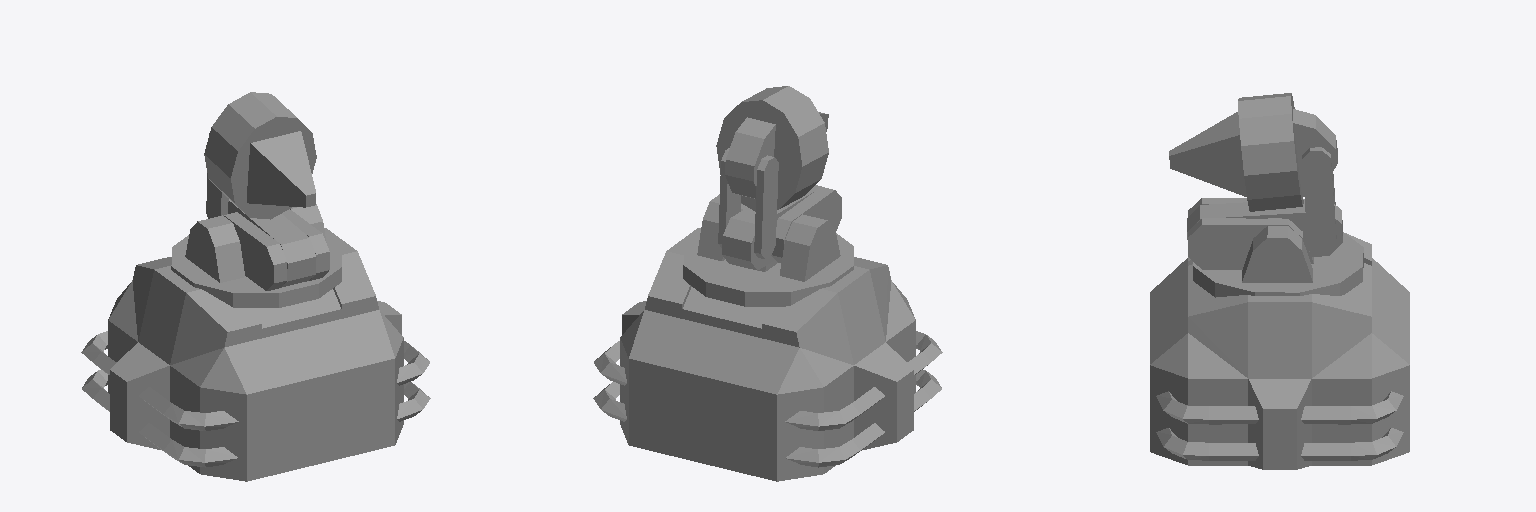
Rendered from amph.obj.
The picture shows the model from 3 angles: view 1: azimuth 30°, elevation 25°; view 2: azimuth 150°, elevation 25°; view 3: azimuth 270°, elevation 25°; orthographic projection.
Parts seen in each view (by area): view 1: body, turret_turret.001, cylinder, nozzle, arm_1, arm_2, arm_3; view 2: body, turret_turret.001, cylinder, arm_3, nanobase, arm_2, arm_1; view 3: body, turret_turret.001, cylinder, arm_1, nozzle, arm_3, arm_2, nanobase.
Boxes of the visible parts, x1=… form: body: x1=81, y1=228, x2=430, y2=481; turret_turret.001: x1=171, y1=204, x2=341, y2=307; cylinder: x1=204, y1=92, x2=316, y2=219; nozzle: x1=247, y1=131, x2=315, y2=207; arm_1: x1=224, y1=209, x2=329, y2=290; arm_2: x1=228, y1=199, x2=316, y2=287; arm_3: x1=206, y1=133, x2=228, y2=218; body: x1=593, y1=228, x2=942, y2=481; turret_turret.001: x1=683, y1=194, x2=853, y2=306; cylinder: x1=716, y1=86, x2=828, y2=211; arm_3: x1=718, y1=148, x2=778, y2=258; nanobase: x1=725, y1=117, x2=775, y2=198; arm_2: x1=722, y1=185, x2=821, y2=270; arm_1: x1=741, y1=187, x2=841, y2=262; body: x1=1150, y1=233, x2=1409, y2=469; turret_turret.001: x1=1193, y1=218, x2=1363, y2=297; cylinder: x1=1238, y1=93, x2=1303, y2=211; arm_1: x1=1188, y1=198, x2=1302, y2=269; nozzle: x1=1169, y1=112, x2=1246, y2=196; arm_3: x1=1302, y1=147, x2=1336, y2=247; arm_2: x1=1187, y1=199, x2=1342, y2=256; nanobase: x1=1293, y1=109, x2=1337, y2=197.
Bounding box in the file's own units: 59.63 × 66.16 × 48.86.